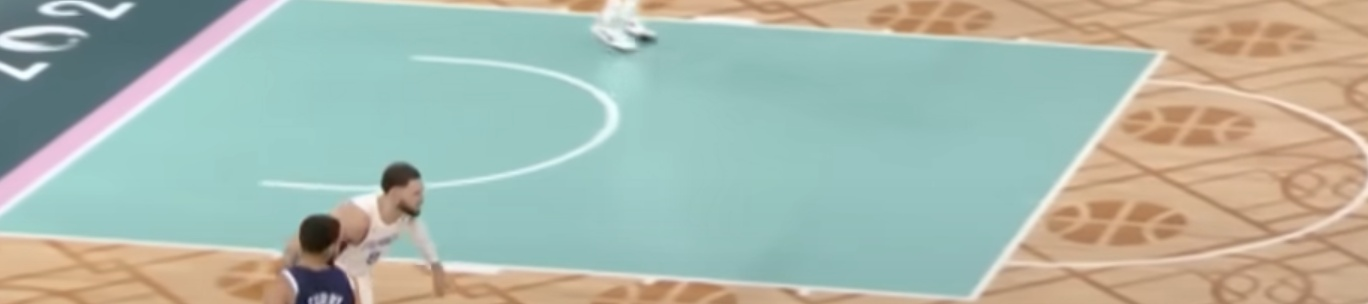endLine: (1, 1, 287, 214)
freeThrow: (973, 50, 1163, 298)
lane: (2, 231, 973, 298), (402, 3, 1157, 49)
